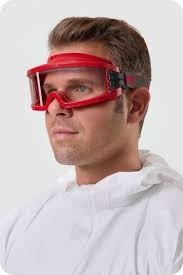safety_goggles: (7, 52, 164, 113)
